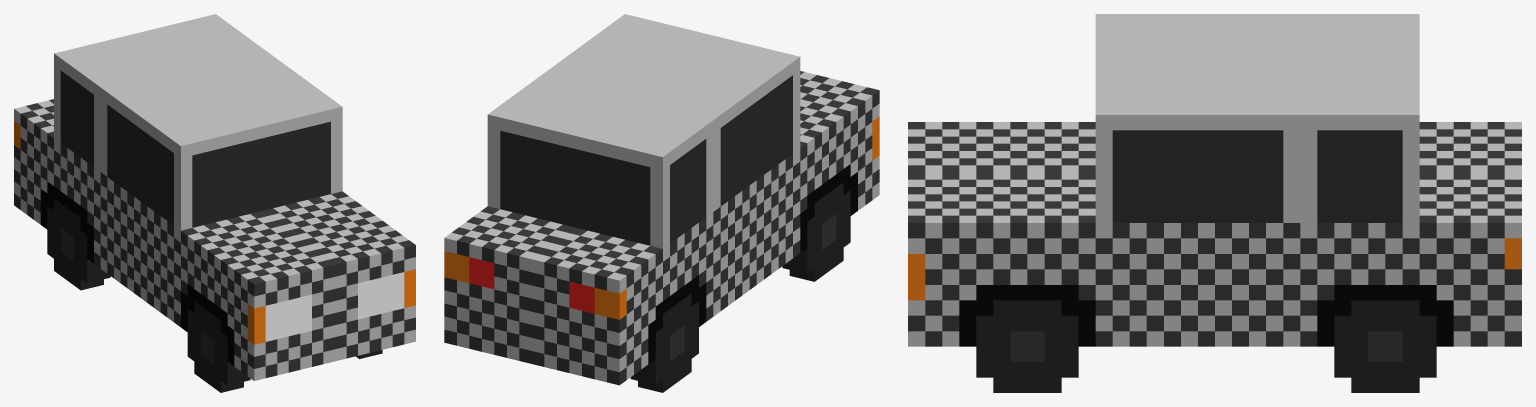
The model's file is kit-voxel-standard-chequered.glb.
3 renders of one model, left to right at view 1: azimuth 30°, elevation 25°; view 2: azimuth 150°, elevation 25°; view 3: azimuth 270°, elevation 25°, orthographic. The views are drawn at different scales.
Visible parts, largest first — view 1: geometry_1; view 2: geometry_1; view 3: geometry_1.
Boxes of the visible parts, bbox=[...] form: geometry_1: bbox=[14, 14, 415, 392]; geometry_1: bbox=[444, 14, 879, 392]; geometry_1: bbox=[908, 14, 1521, 392].
Size of the model in its own units: 1.4 by 1.8 by 3.6.
Materials: 1 (1 with a texture image).
